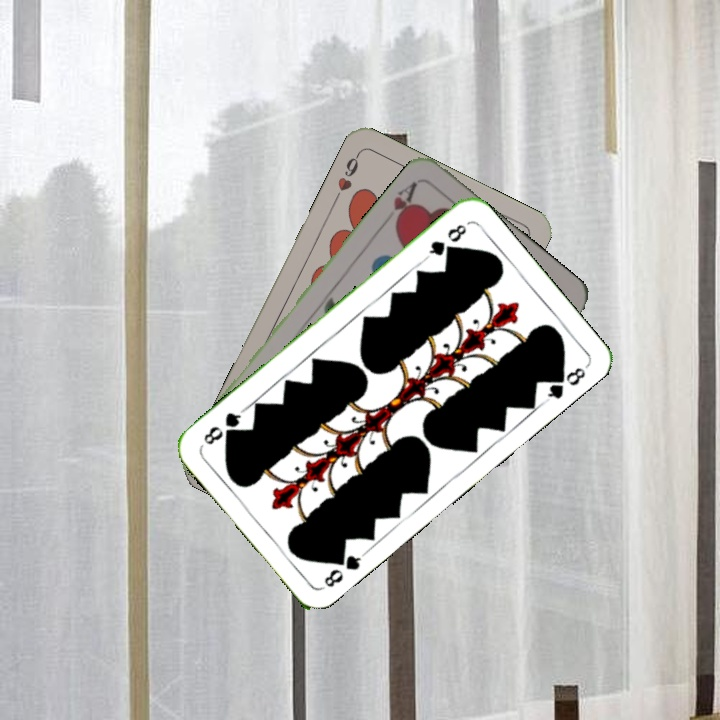G8: (319, 547, 368, 591), (422, 220, 469, 262)
H9: (329, 149, 363, 204)
HA: (380, 177, 421, 230)
